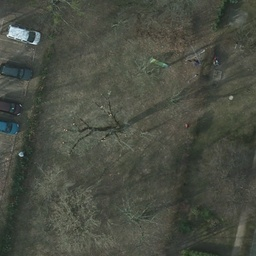car: (1, 60, 33, 79), (7, 25, 40, 42), (1, 96, 22, 116), (1, 118, 19, 134)
